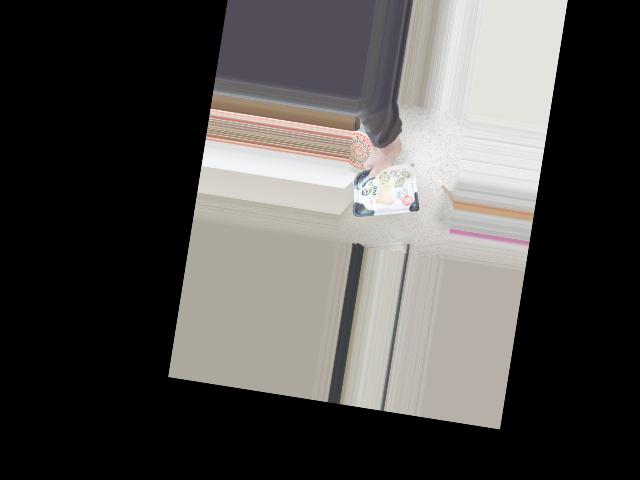cheese: (347, 154, 422, 225)
